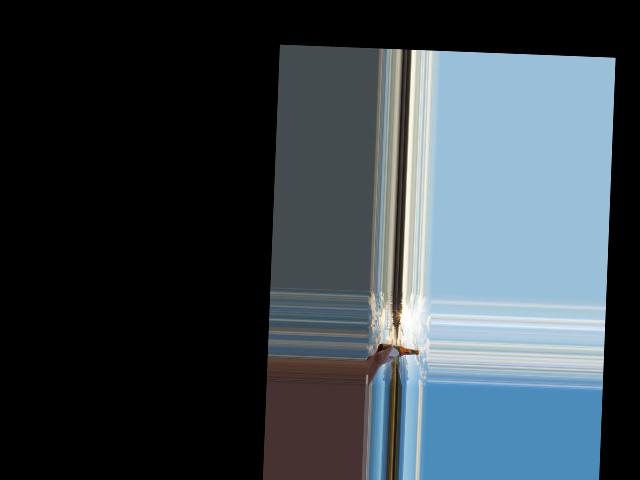beer: (379, 342, 419, 357)
